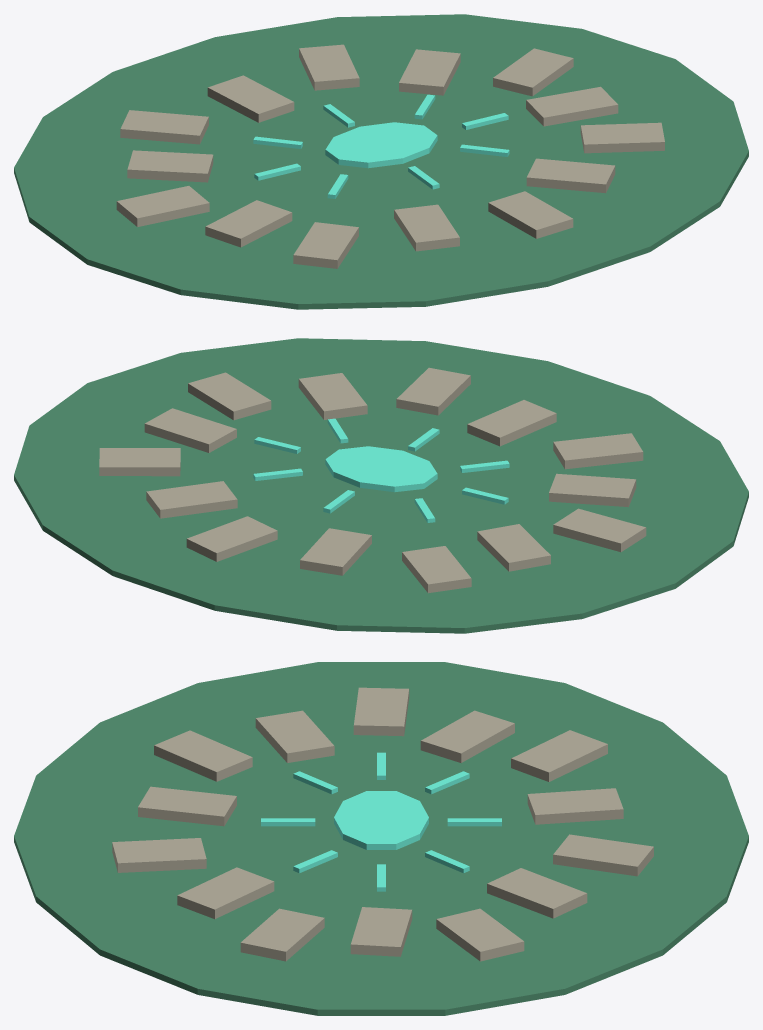
The model's file is terrain-stone-plaza.low.glb.
3 views of the same model, one above another, from view 1: azimuth 30°, elevation 25°; view 2: azimuth 150°, elevation 25°; view 3: azimuth 270°, elevation 25° (orthographic). The views are drawn at different scales.
Parts seen in each view (by area): view 1: terrain_plaza_moss_base, terrain_plaza_center_rune, terrain_plaza_cobble_00, terrain_plaza_cobble_07, terrain_plaza_cobble_12, terrain_plaza_cobble_05, terrain_plaza_cobble_04, terrain_plaza_cobble_06, terrain_plaza_cobble_08, terrain_plaza_cobble_11, terrain_plaza_cobble_13, terrain_plaza_cobble_01 (+4 smaller); view 2: terrain_plaza_moss_base, terrain_plaza_center_rune, terrain_plaza_cobble_07, terrain_plaza_cobble_00, terrain_plaza_cobble_02, terrain_plaza_cobble_03, terrain_plaza_cobble_09, terrain_plaza_cobble_10, terrain_plaza_cobble_08, terrain_plaza_cobble_13, terrain_plaza_cobble_01, terrain_plaza_cobble_11 (+4 smaller); view 3: terrain_plaza_moss_base, terrain_plaza_center_rune, terrain_plaza_cobble_03, terrain_plaza_cobble_02, terrain_plaza_cobble_10, terrain_plaza_cobble_09, terrain_plaza_cobble_04, terrain_plaza_cobble_12, terrain_plaza_cobble_05, terrain_plaza_cobble_11, terrain_plaza_cobble_06, terrain_plaza_cobble_01 (+4 smaller).
Boxes of the visible parts, x1=… form: terrain_plaza_moss_base: x1=14, y1=14, x2=748, y2=309; terrain_plaza_center_rune: x1=325, y1=122, x2=437, y2=168; terrain_plaza_cobble_00: x1=526, y1=86, x2=618, y2=126; terrain_plaza_cobble_07: x1=116, y1=186, x2=209, y2=226; terrain_plaza_cobble_12: x1=526, y1=158, x2=615, y2=193; terrain_plaza_cobble_05: x1=120, y1=110, x2=208, y2=144; terrain_plaza_cobble_04: x1=207, y1=75, x2=294, y2=122; terrain_plaza_cobble_06: x1=127, y1=150, x2=213, y2=182; terrain_plaza_cobble_08: x1=205, y1=200, x2=292, y2=247; terrain_plaza_cobble_11: x1=488, y1=191, x2=573, y2=238; terrain_plaza_cobble_13: x1=580, y1=122, x2=664, y2=153; terrain_plaza_cobble_01: x1=493, y1=48, x2=573, y2=96; terrain_plaza_moss_base: x1=14, y1=338, x2=748, y2=633; terrain_plaza_center_rune: x1=325, y1=446, x2=437, y2=492; terrain_plaza_cobble_07: x1=553, y1=508, x2=646, y2=552; terrain_plaza_cobble_00: x1=144, y1=408, x2=236, y2=452; terrain_plaza_cobble_02: x1=146, y1=481, x2=237, y2=518; terrain_plaza_cobble_03: x1=186, y1=516, x2=277, y2=561; terrain_plaza_cobble_09: x1=553, y1=433, x2=643, y2=469; terrain_plaza_cobble_10: x1=467, y1=400, x2=556, y2=446; terrain_plaza_cobble_08: x1=549, y1=473, x2=636, y2=507; terrain_plaza_cobble_13: x1=188, y1=372, x2=271, y2=420; terrain_plaza_cobble_01: x1=99, y1=448, x2=180, y2=476; terrain_plaza_cobble_11: x1=396, y1=367, x2=470, y2=415; terrain_plaza_moss_base: x1=14, y1=662, x2=748, y2=1015; terrain_plaza_center_rune: x1=334, y1=791, x2=428, y2=849; terrain_plaza_cobble_03: x1=553, y1=834, x2=653, y2=876; terrain_plaza_cobble_02: x1=487, y1=868, x2=587, y2=918; terrain_plaza_cobble_10: x1=138, y1=786, x2=236, y2=826; terrain_plaza_cobble_09: x1=154, y1=730, x2=252, y2=781; terrain_plaza_cobble_04: x1=527, y1=788, x2=623, y2=824; terrain_plaza_cobble_12: x1=177, y1=867, x2=274, y2=919; terrain_plaza_cobble_05: x1=511, y1=730, x2=607, y2=781; terrain_plaza_cobble_11: x1=112, y1=838, x2=206, y2=872; terrain_plaza_cobble_06: x1=420, y1=710, x2=514, y2=762; terrain_plaza_cobble_01: x1=436, y1=908, x2=524, y2=961.
Size of the model in its own units: 4.23 by 0.14 by 3.78.
